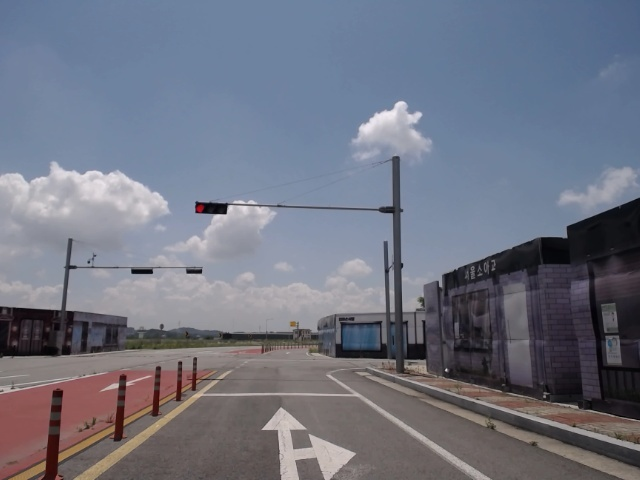red_3: (192, 201, 229, 215)
